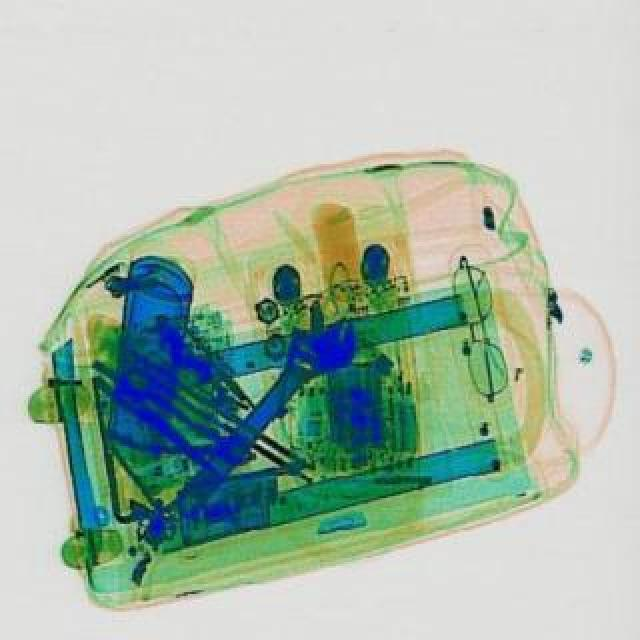scissors: (154, 294, 374, 528)
